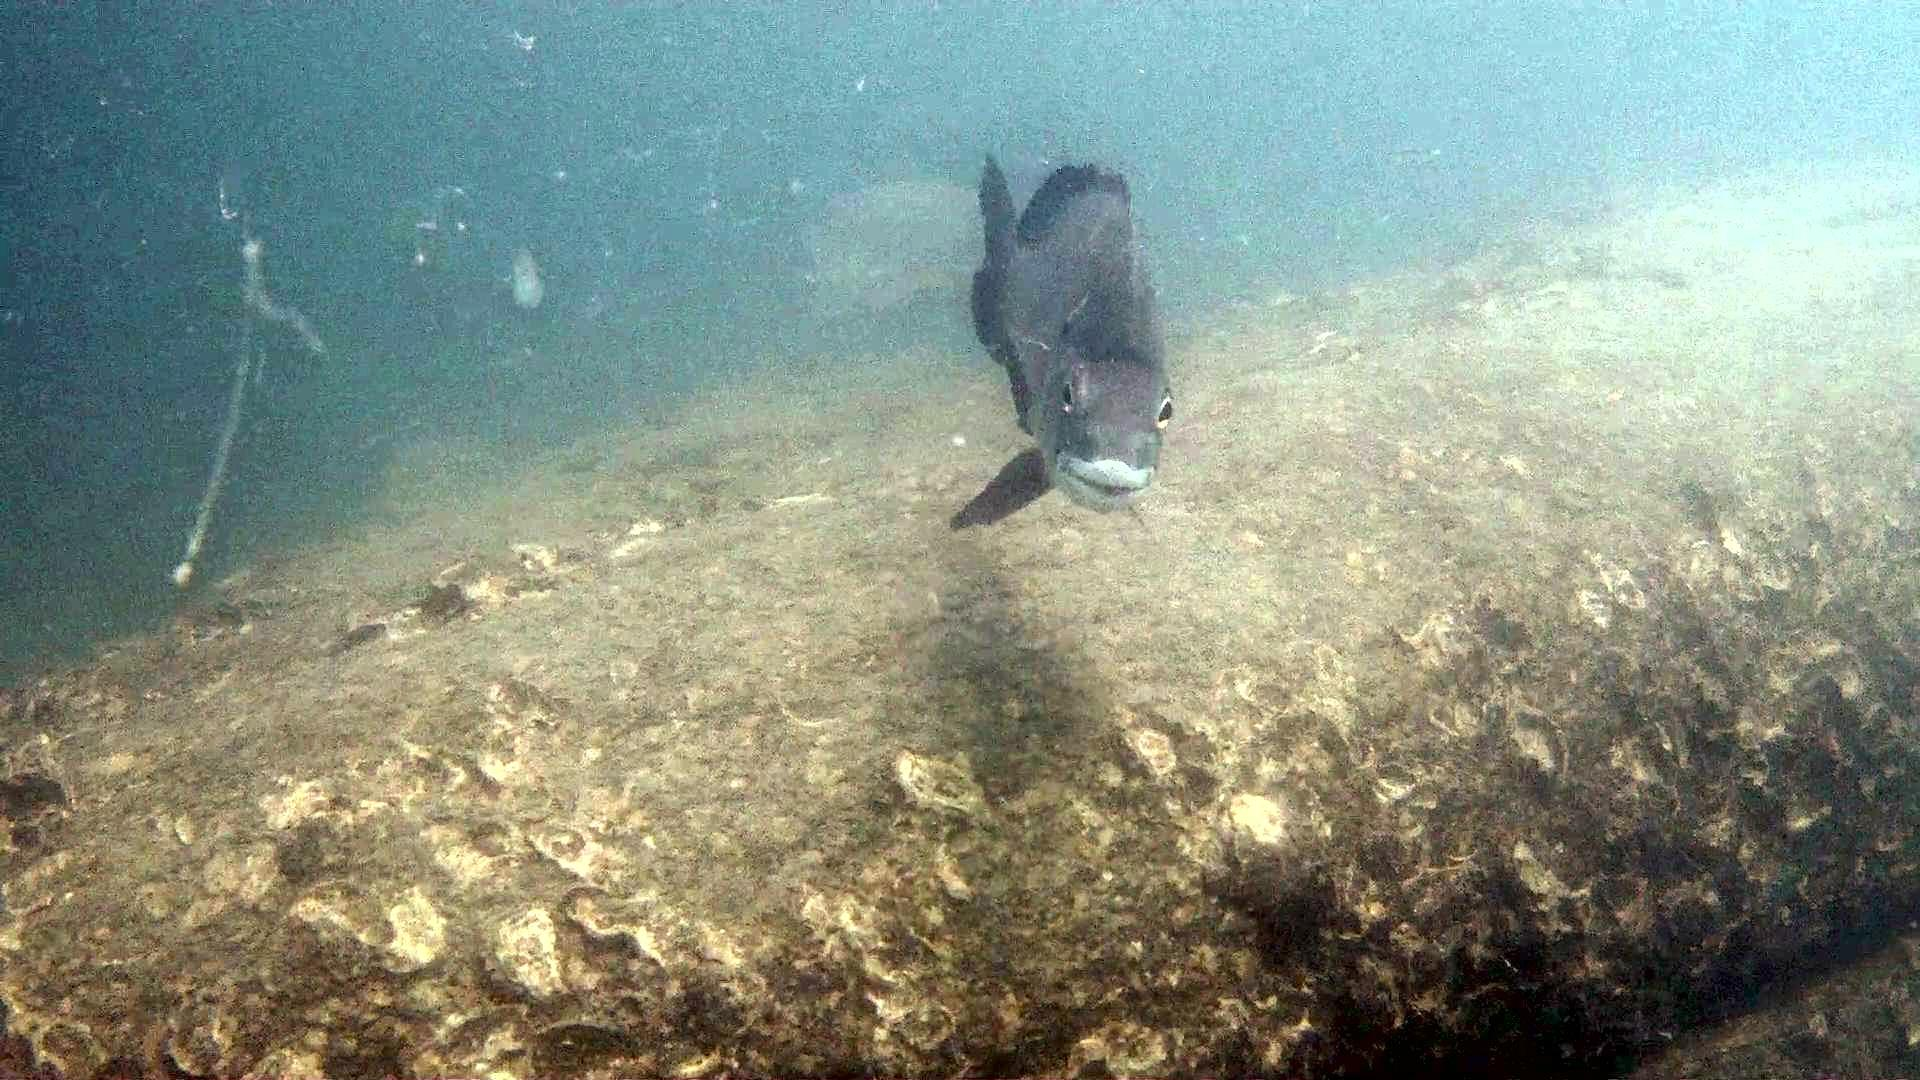acanthopagrus palmaris: (947, 143, 1196, 551)
